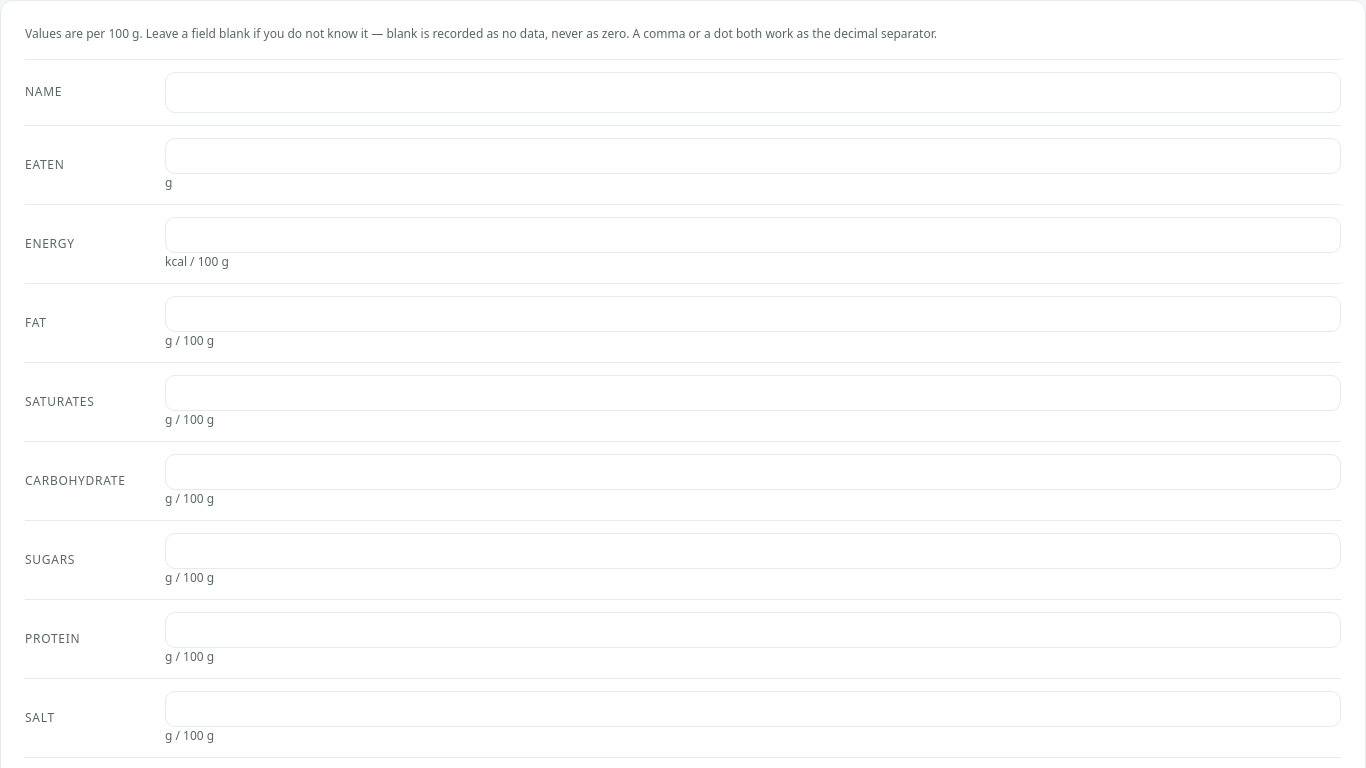
Test case: FoodForm › recovers once the bad text is replaced
Type "Apple" into the field with id "food-name" at x=753, y=92, box [165, 72, 1341, 112]
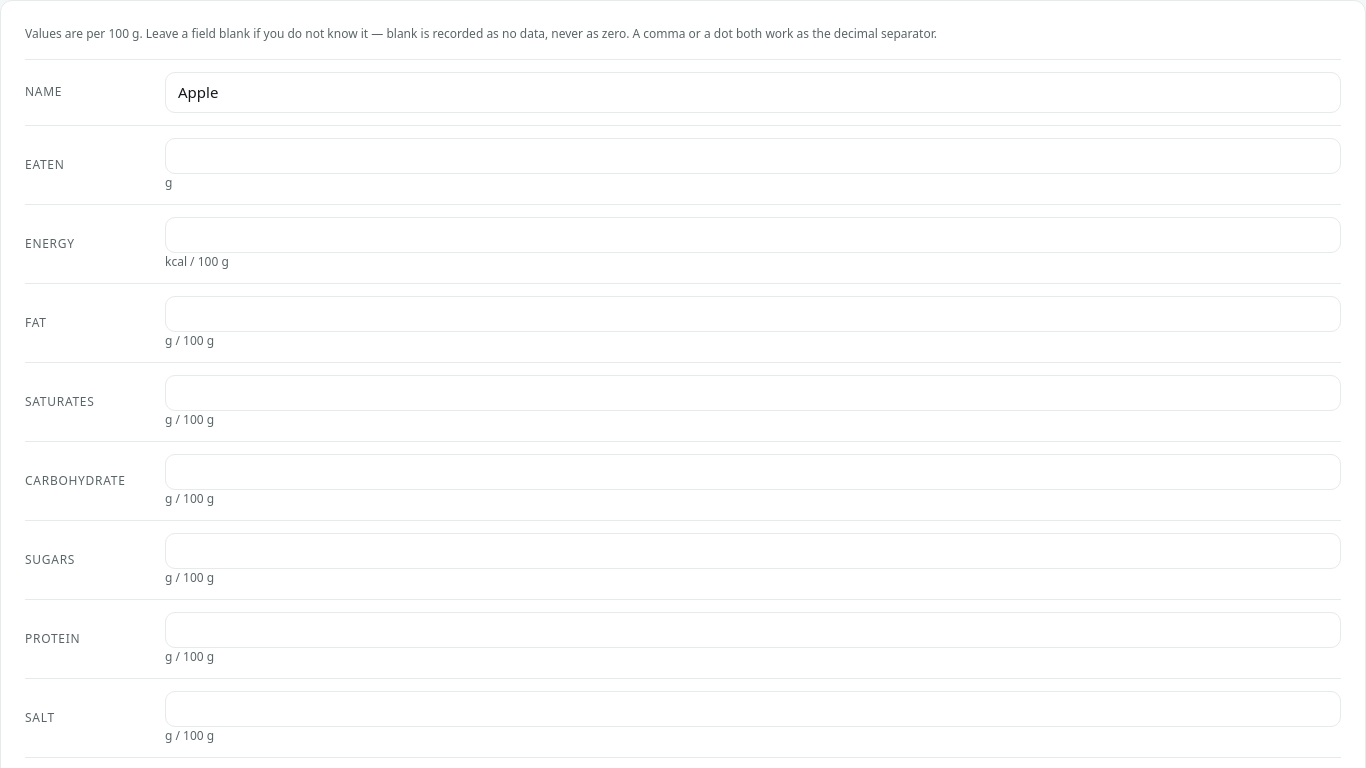
Type "150" into the field with id "food-grams" at x=753, y=156, box [165, 138, 1341, 174]
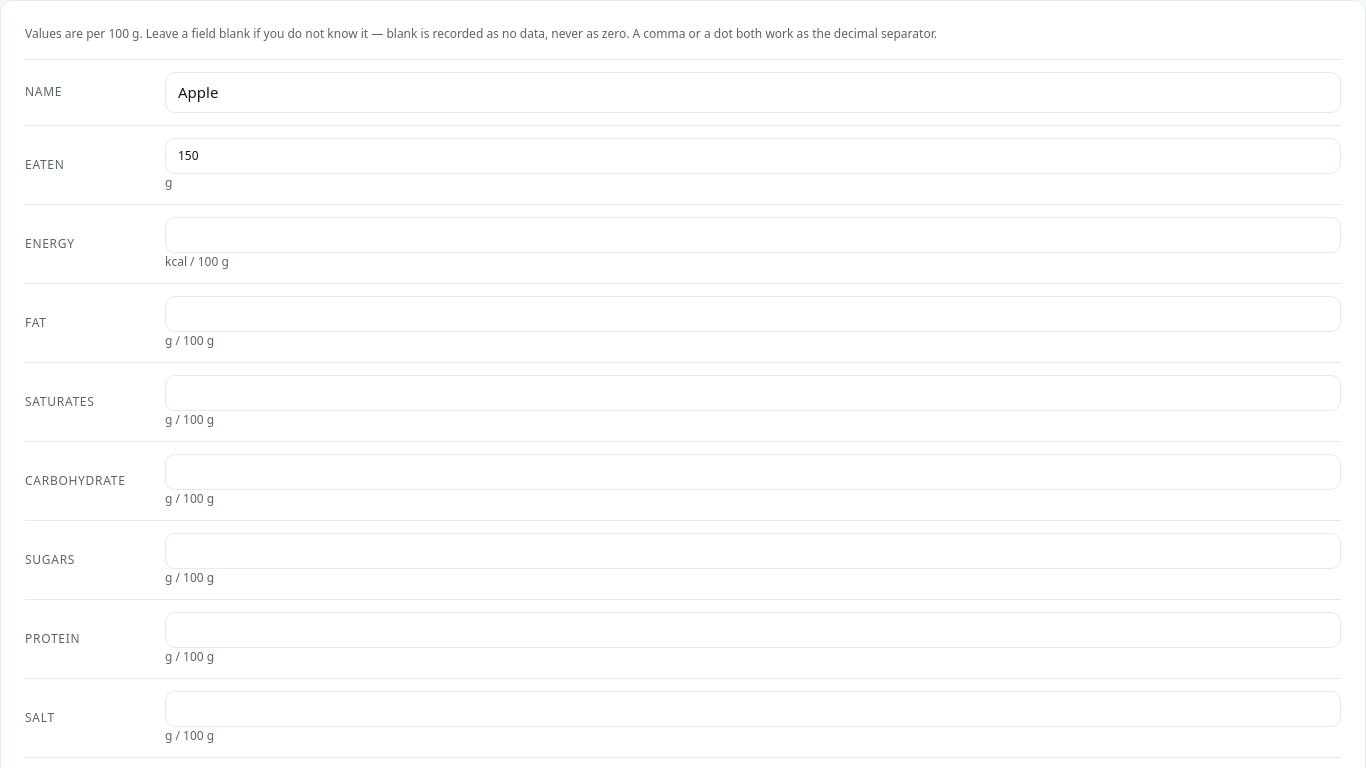
Type "abc" into the field with id "food-energy" at x=753, y=234, box [165, 216, 1341, 252]
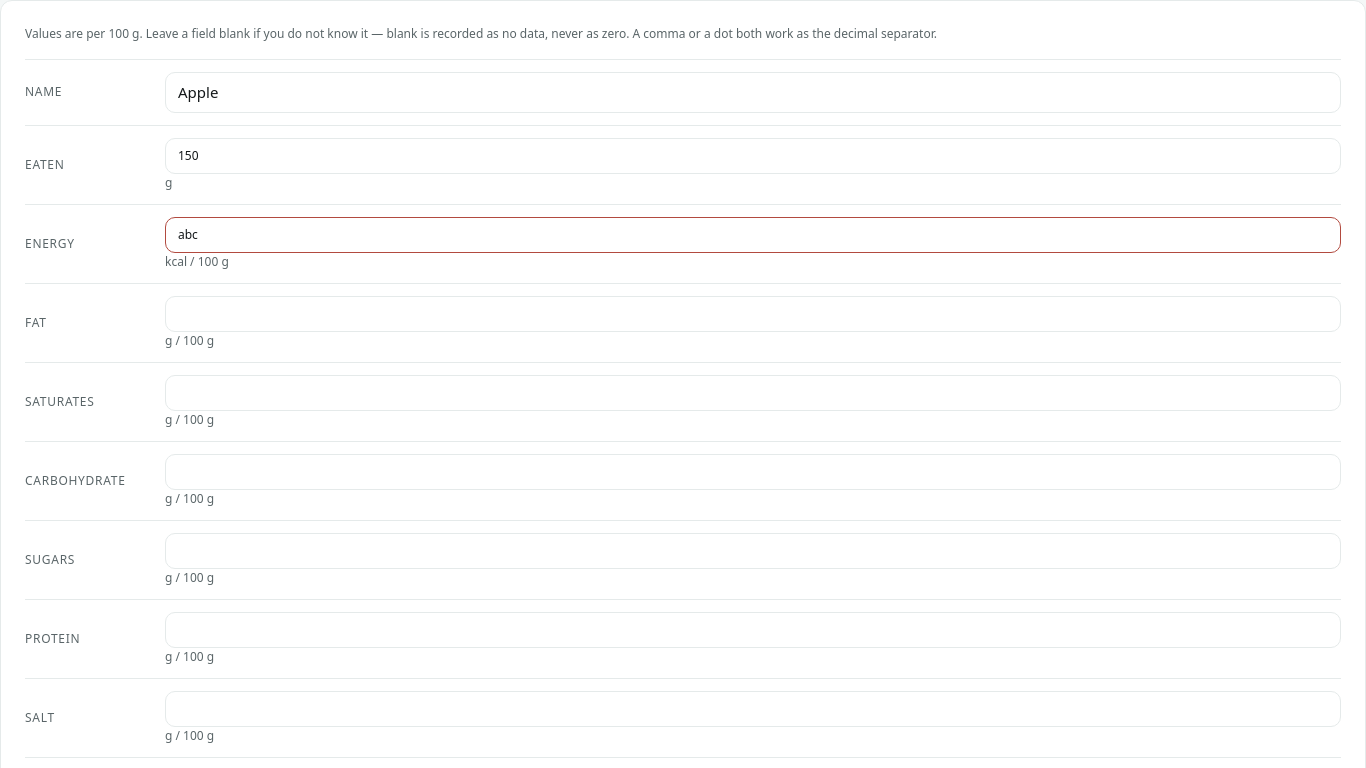
Replace the text in the field with id "food-energy" with "52" at x=753, y=234, box [165, 216, 1341, 252]
(page scrolled)
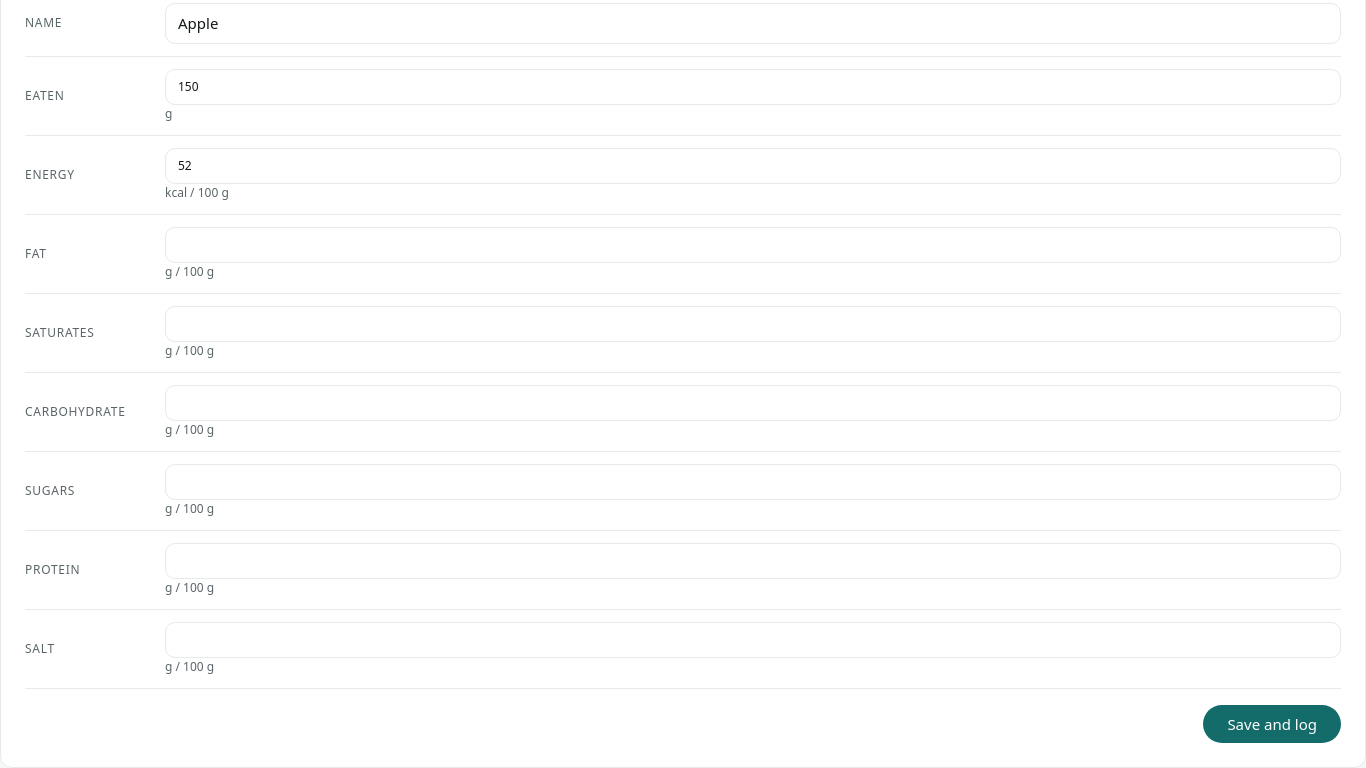
Now the submit button is enabled, box [1203, 704, 1341, 743]
